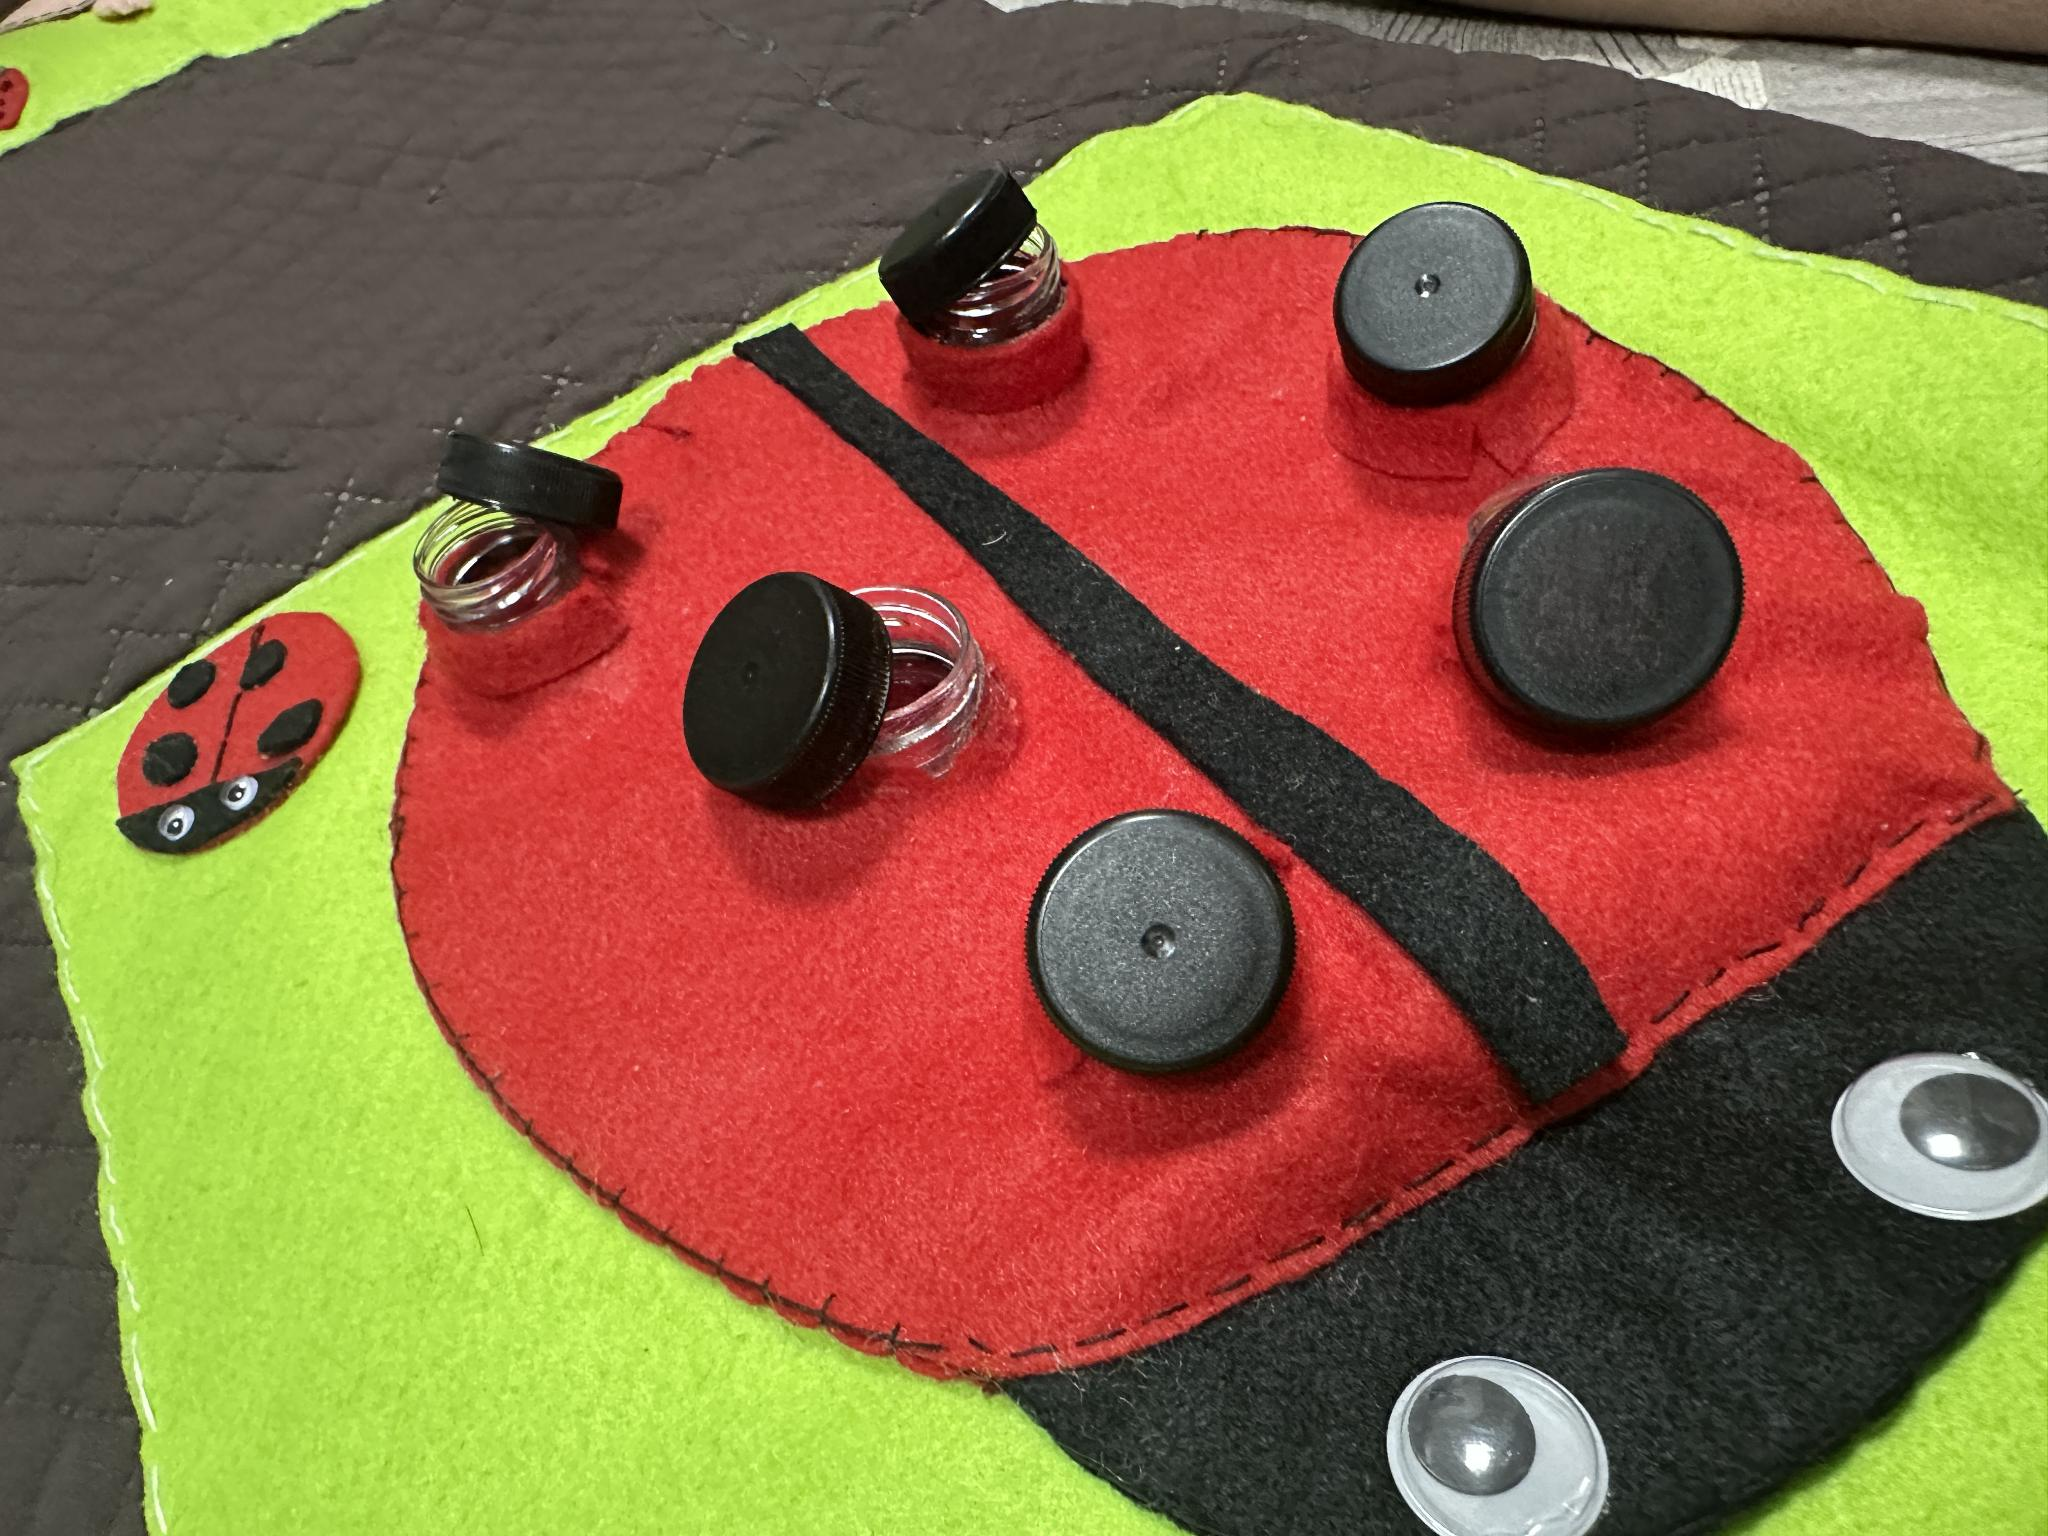cap_ng: (1450, 440, 1774, 762), (679, 534, 1013, 831), (389, 407, 634, 695), (871, 145, 1077, 419)
cap_ok: (1021, 778, 1314, 1121), (1319, 184, 1567, 466)
